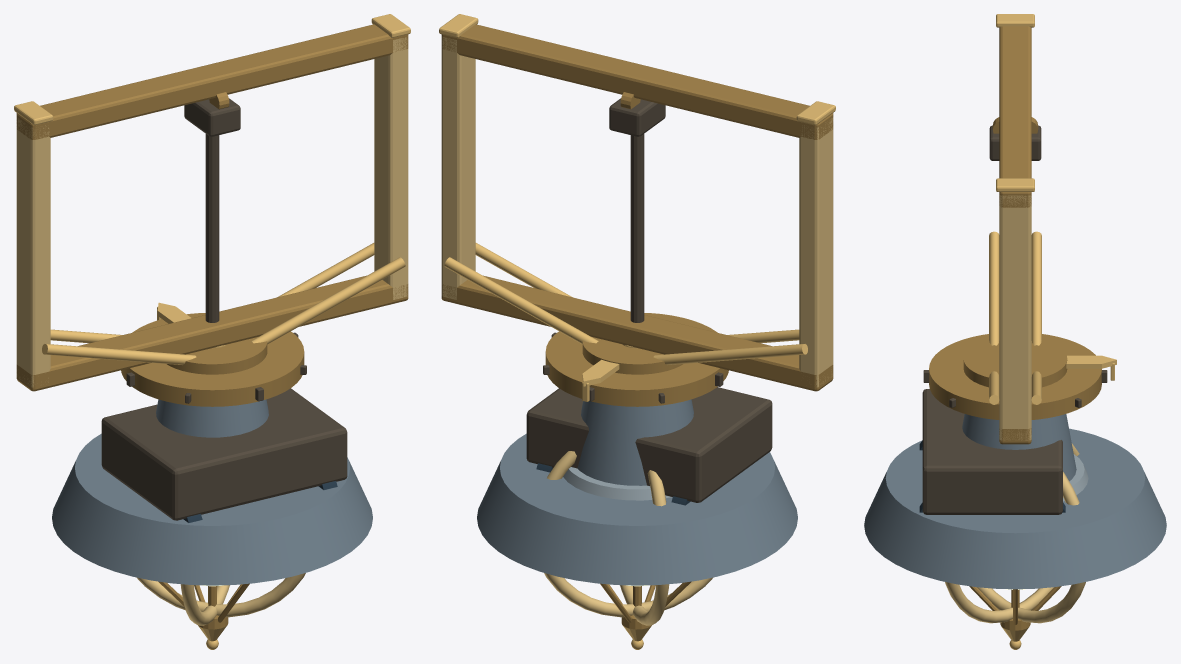
File: moon-optics-v01.glb
The picture shows the model from 3 angles, left to right: view 1: azimuth 30°, elevation 25°; view 2: azimuth 150°, elevation 25°; view 3: azimuth 270°, elevation 25°; orthographic projection. The views are drawn at different scales.
Parts seen in each view (by area): view 1: MirrorPedestal Shadow sandstone, MirrorFrame Shadow brass.001, PanelBase Shadow bronze dark.002, MirrorFrame Shadow gold, MirrorFrame Shadow brass light, MirrorPedestal Shadow brass, ShadeLantern Shadow bronze dark.001, ShadeLantern Shadow gold.001, ShadeLantern Shadow brass.002; view 2: MirrorPedestal Shadow sandstone, MirrorFrame Shadow brass.001, MirrorFrame Shadow gold, PanelBase Shadow bronze dark.002, MirrorFrame Shadow brass light, MirrorPedestal Shadow brass, ShadeLantern Shadow bronze dark.001, ShadeLantern Shadow gold.001, MirrorPedestal Shadow sandstone light, ShadeLantern Shadow brass.002; view 3: MirrorPedestal Shadow sandstone, PanelBase Shadow bronze dark.002, MirrorFrame Shadow brass.001, MirrorFrame Shadow gold, MirrorPedestal Shadow brass, MirrorFrame Shadow brass light, ShadeLantern Shadow gold.001, ShadeLantern Shadow brass.002, ShadeLantern Shadow bronze dark.001.
Boxes of the visible parts, x1,y1,x2,y2 form: MirrorPedestal Shadow sandstone: [52, 399, 372, 585]; MirrorFrame Shadow brass.001: [16, 24, 408, 391]; PanelBase Shadow bronze dark.002: [101, 388, 347, 520]; MirrorFrame Shadow gold: [16, 37, 408, 387]; MirrorFrame Shadow brass light: [14, 14, 410, 364]; MirrorPedestal Shadow brass: [121, 313, 304, 406]; ShadeLantern Shadow bronze dark.001: [184, 98, 240, 322]; ShadeLantern Shadow gold.001: [136, 573, 305, 625]; ShadeLantern Shadow brass.002: [158, 92, 249, 629]; MirrorPedestal Shadow sandstone: [477, 399, 797, 585]; MirrorFrame Shadow brass.001: [441, 24, 833, 391]; MirrorFrame Shadow gold: [441, 36, 833, 387]; PanelBase Shadow bronze dark.002: [526, 387, 772, 502]; MirrorFrame Shadow brass light: [439, 14, 835, 401]; MirrorPedestal Shadow brass: [545, 313, 728, 406]; ShadeLantern Shadow bronze dark.001: [609, 98, 665, 322]; ShadeLantern Shadow gold.001: [544, 451, 713, 625]; MirrorPedestal Shadow sandstone light: [563, 467, 671, 500]; ShadeLantern Shadow brass.002: [600, 92, 691, 629]; MirrorPedestal Shadow sandstone: [864, 414, 1166, 589]; PanelBase Shadow bronze dark.002: [922, 389, 1062, 514]; MirrorFrame Shadow brass.001: [963, 26, 1067, 444]; MirrorFrame Shadow gold: [999, 195, 1031, 440]; MirrorPedestal Shadow brass: [929, 334, 1101, 419]; MirrorFrame Shadow brass light: [989, 14, 1116, 404]; ShadeLantern Shadow gold.001: [945, 443, 1085, 623]; ShadeLantern Shadow brass.002: [969, 117, 1061, 630]; ShadeLantern Shadow bronze dark.001: [989, 125, 1041, 160].
Bounding box in the file's own units: 1.9 × 2.8 × 1.4.
